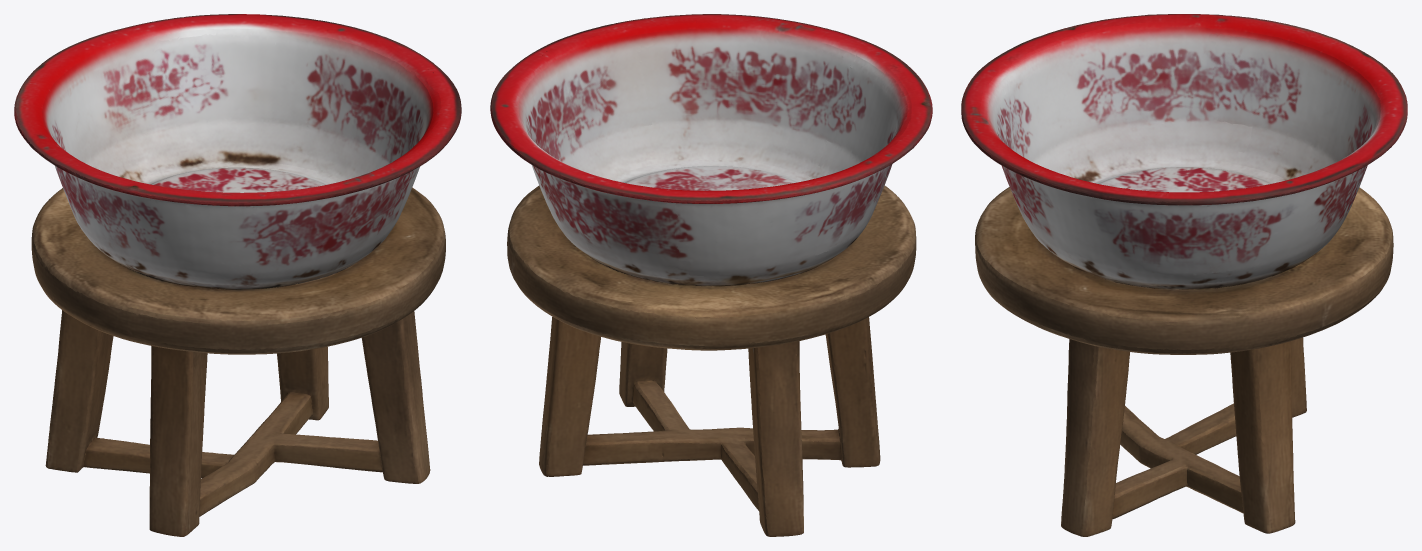
Rendered from ch8-today.glb.
3 renders of one model, left to right at view 1: azimuth 30°, elevation 25°; view 2: azimuth 150°, elevation 25°; view 3: azimuth 270°, elevation 25°, orthographic.
Visible parts, largest first — view 1: world; view 2: world; view 3: world.
Part boxes in pixels (x1,y1,x2,y2): world: (14,14,461,536); world: (490,14,932,536); world: (961,14,1407,536).
Size of the model in its own units: 0.38 by 0.3419 by 0.38.
1 material, 1 textured.
